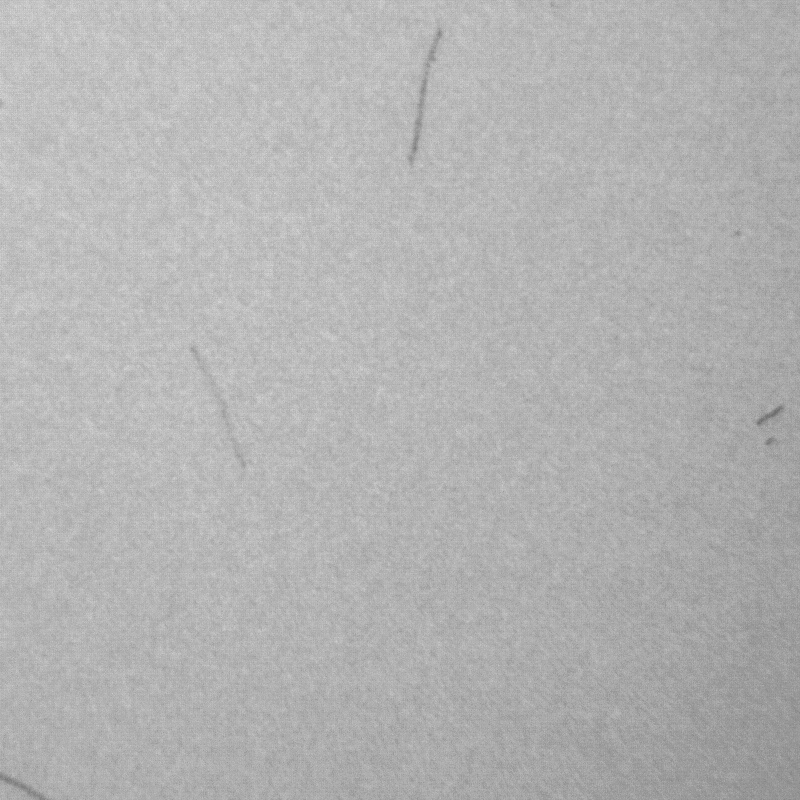defect: (190, 346, 254, 471), (406, 32, 438, 165), (750, 409, 784, 452), (4, 773, 43, 800)
